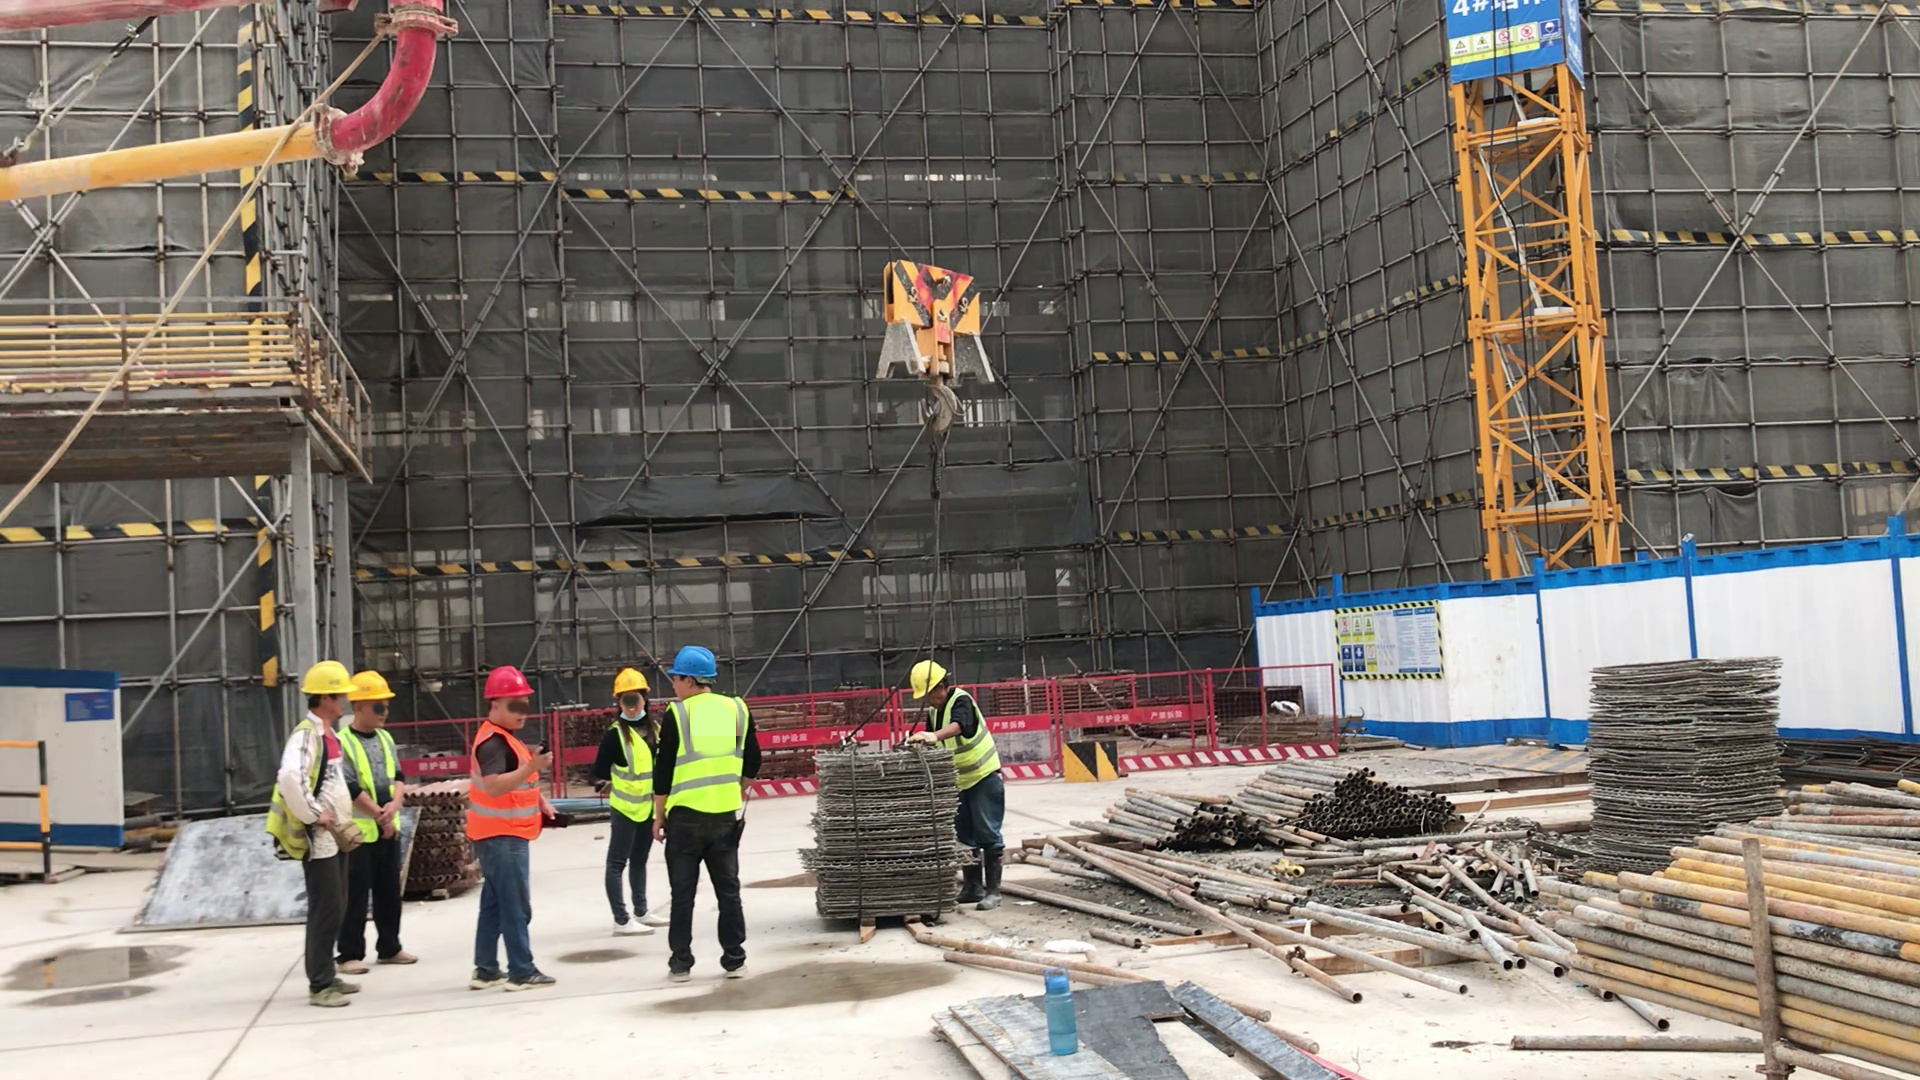fence: (1206, 657, 1339, 774), (1047, 667, 1206, 737), (6, 735, 58, 874), (759, 685, 817, 802)
helmet: (298, 665, 358, 698), (668, 647, 719, 685), (483, 667, 534, 698), (914, 660, 947, 698), (358, 672, 396, 702), (610, 667, 648, 695)
hook: (867, 257, 1002, 439)
person: (652, 644, 764, 982), (265, 661, 364, 1011), (464, 664, 559, 992), (910, 659, 1009, 910), (345, 671, 420, 979), (593, 667, 666, 939)
scaffold: (1519, 768, 1920, 1079), (1239, 756, 1465, 836), (1073, 783, 1259, 849)
slogan: (1336, 605, 1439, 679), (1451, 2, 1563, 65)
vest: (666, 692, 749, 817), (467, 724, 545, 846), (271, 719, 324, 864), (340, 725, 404, 844), (947, 689, 1002, 786), (610, 719, 654, 823)
